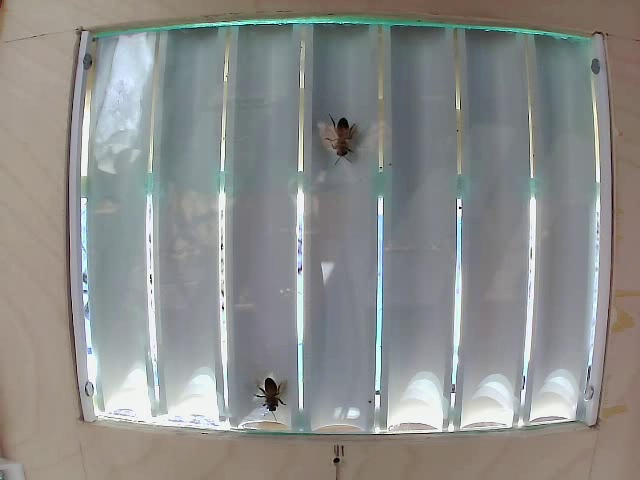bee: (325, 114, 364, 169), (253, 379, 289, 407)
